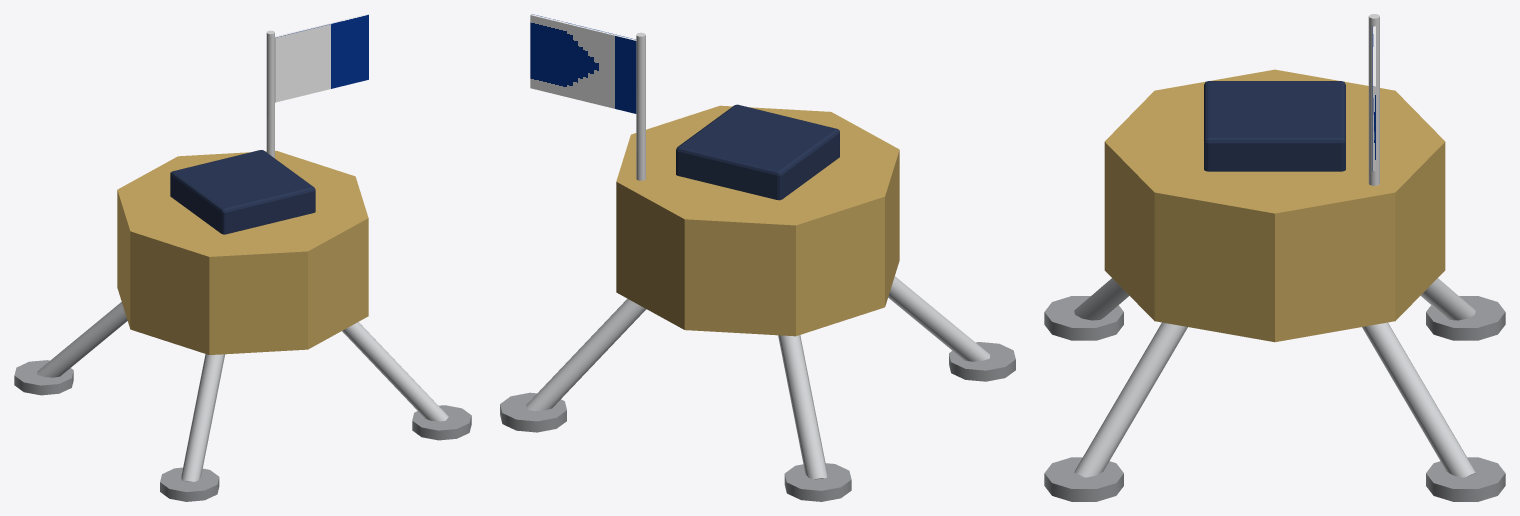
Rendered from mission-beresheet.glb.
3 views of the same model, side by side, from view 1: azimuth 30°, elevation 25°; view 2: azimuth 150°, elevation 25°; view 3: azimuth 270°, elevation 25° (orthographic). The views are drawn at different scales.
Parts seen in each view (by area): view 1: bus, top, flagcloth, leg_2, leg_3, leg_1, pad_2, pad_3, pad_1, flagpole; view 2: bus, top, flagcloth, leg_1, leg_0, leg_2, pad_1, pad_0, pad_2, flagpole; view 3: bus, top, leg_0, leg_3, pad_0, pad_3, pad_1, pad_2, flagpole, leg_1, leg_2, flagcloth.
Boxes of the visible parts, x1,y1,x2,y2 form: bus: (117,150,368,354); top: (170,150,315,234); flagcloth: (275,14,368,102); leg_2: (181,354,224,482); leg_3: (342,322,448,421); leg_1: (37,302,127,377); pad_2: (160,467,219,501); pad_3: (412,405,471,440); pad_1: (14,360,73,395); flagpole: (266,30,274,158); bus: (616,105,899,336); top: (676,104,839,200); flagcloth: (530,14,636,113); leg_1: (778,335,827,479); leg_0: (526,298,646,411); leg_2: (888,276,990,361); pad_1: (784,463,851,501); pad_0: (500,392,566,432); pad_2: (949,342,1015,381); flagpole: (636,32,645,180); bus: (1104,69,1445,342); top: (1204,81,1345,171); leg_0: (1362,322,1475,477); leg_3: (1074,322,1187,477); pad_0: (1426,457,1505,501); pad_3: (1044,457,1123,501); pad_1: (1426,296,1505,340); pad_2: (1044,296,1123,340); flagpole: (1368,14,1379,185); leg_1: (1420,278,1475,320); leg_2: (1074,278,1129,320); flagcloth: (1372,26,1375,171).
Size of the model in its own units: 2.09 by 2.1 by 2.03.
Materials: 7 (1 with a texture image).
